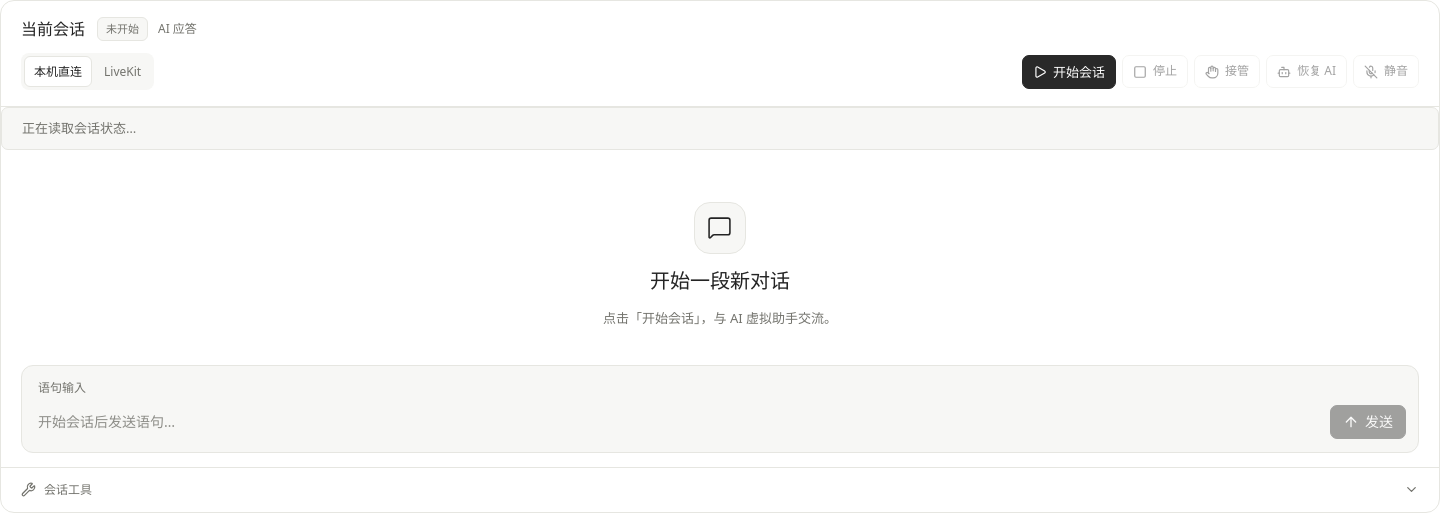
Test: WorkspaceSession › keeps 停止 and 接管 enabled while finalize is in flight
Click the button "开始会话" at (1069, 72), box left=1022, top=54, right=1116, bottom=89
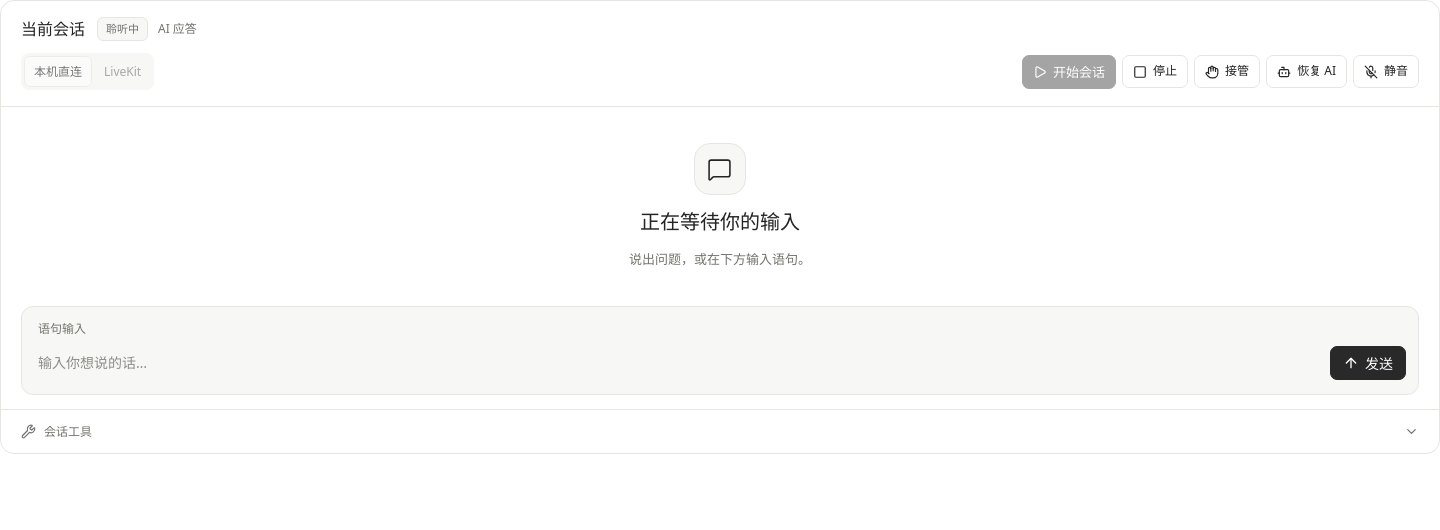
Result: the text "聆听中" is shown at left=97, top=17, right=148, bottom=41
Type "慢轮" into the field labelled "语句输入" at (677, 363), box left=34, top=345, right=1320, bottom=382
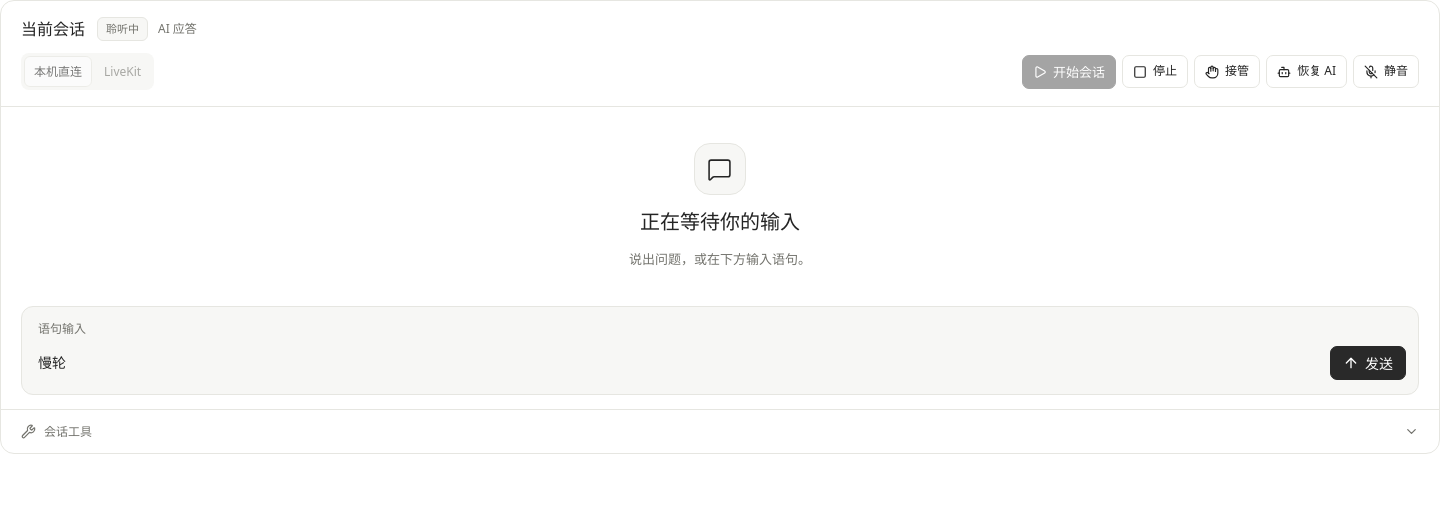
Click the button "发送" at (1368, 363), box left=1330, top=346, right=1406, bottom=380
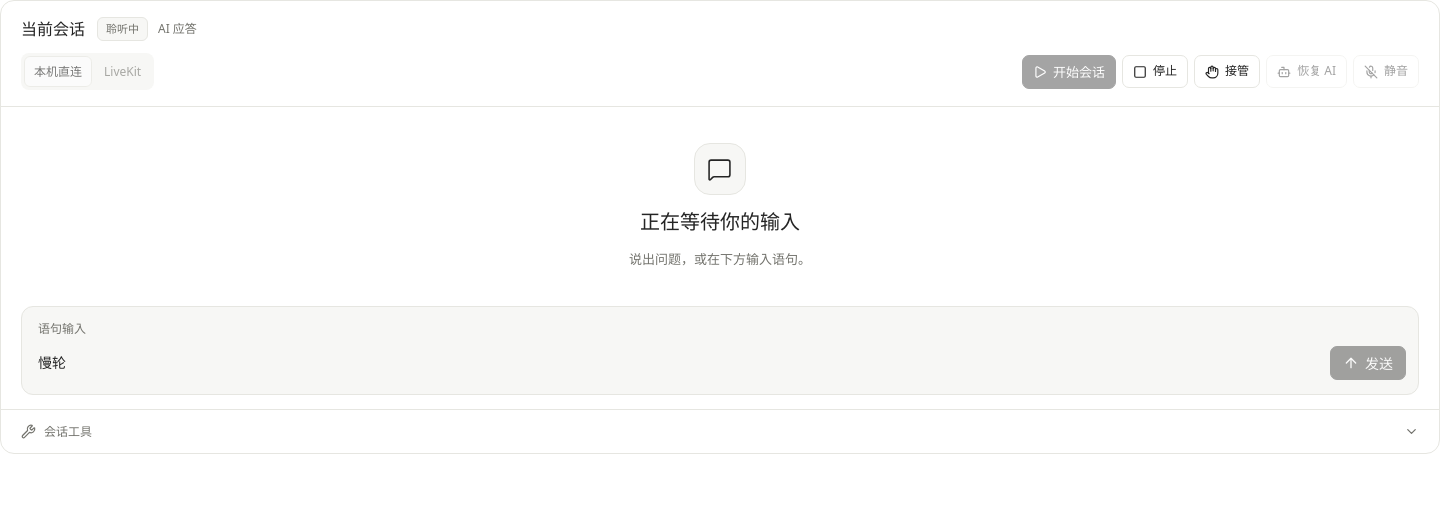
Result: the button "停止" is enabled at left=1122, top=55, right=1188, bottom=88
Result: the button "接管" is enabled at left=1194, top=55, right=1260, bottom=88
Result: the button "发送" is disabled at left=1330, top=346, right=1406, bottom=380
